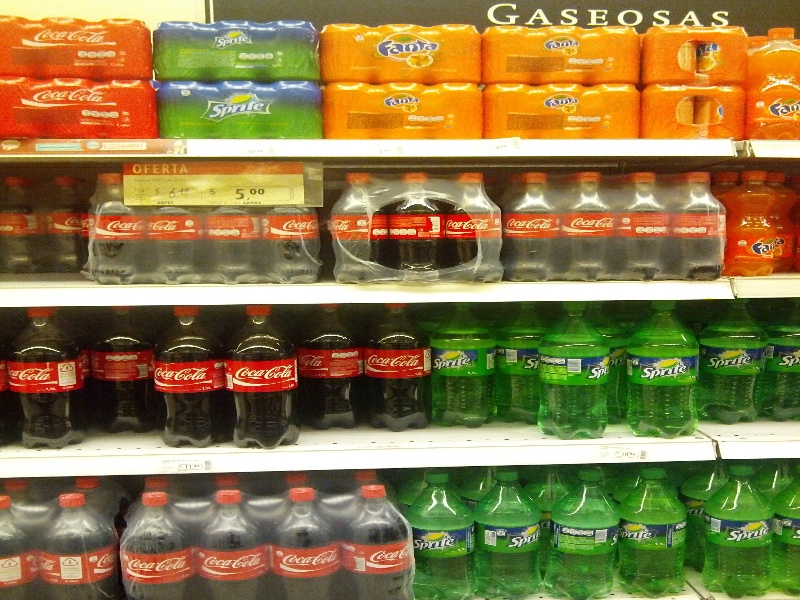lemonade: (626, 300, 706, 439), (225, 306, 302, 450), (14, 313, 92, 447), (156, 305, 226, 447), (405, 467, 480, 599), (701, 465, 774, 599), (541, 303, 609, 442), (611, 472, 687, 596), (369, 303, 437, 437), (476, 472, 544, 598), (698, 300, 766, 425), (546, 468, 610, 600), (432, 308, 500, 432), (301, 308, 362, 437), (383, 170, 442, 286), (561, 170, 618, 284), (504, 170, 561, 283), (668, 168, 724, 277), (721, 169, 778, 276), (613, 168, 665, 284)
